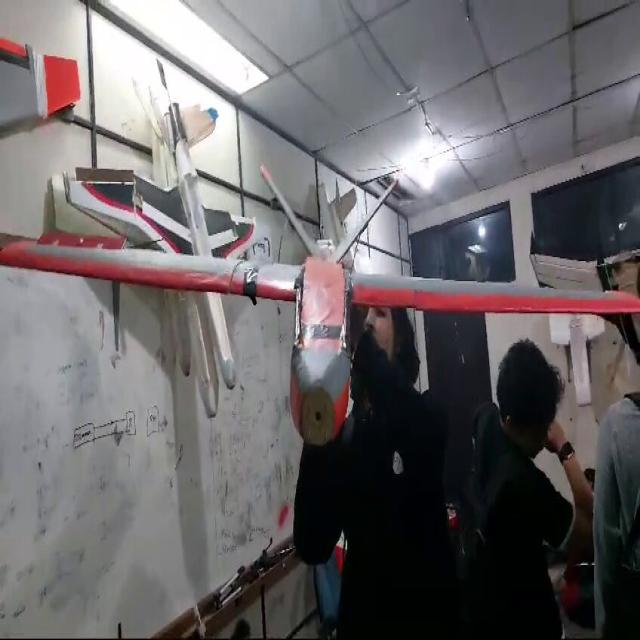plane: (0, 58, 639, 444)
